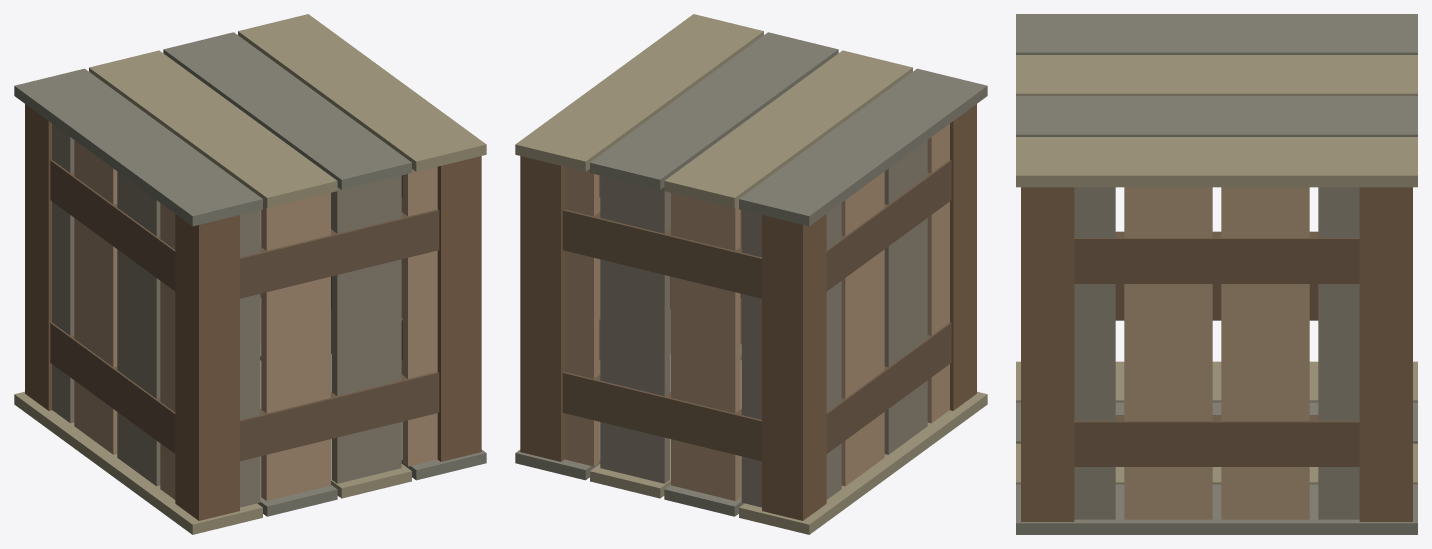
3 renders of one model, left to right at view 1: azimuth 30°, elevation 25°; view 2: azimuth 150°, elevation 25°; view 3: azimuth 270°, elevation 25°, orthographic. The views are drawn at different scales.
Visible parts, largest first — view 1: Box_3; view 2: Box_3; view 3: Box_3.
Part boxes in pixels (x1,y1,x2,y2): Box_3: (14, 14, 486, 534); Box_3: (515, 14, 987, 534); Box_3: (1016, 14, 1417, 534).
Bounding box in the file's own units: 73.83 × 76.48 × 77.53.
Materials: 1 (1 with a texture image).
